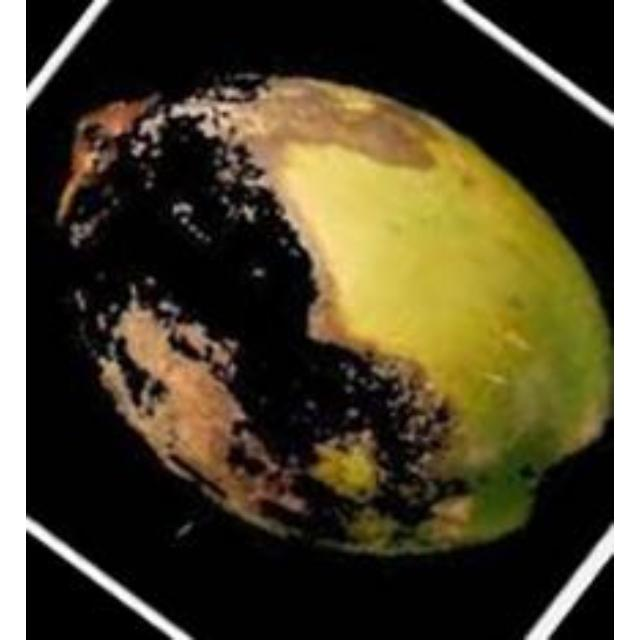damaged: (53, 77, 611, 563)
